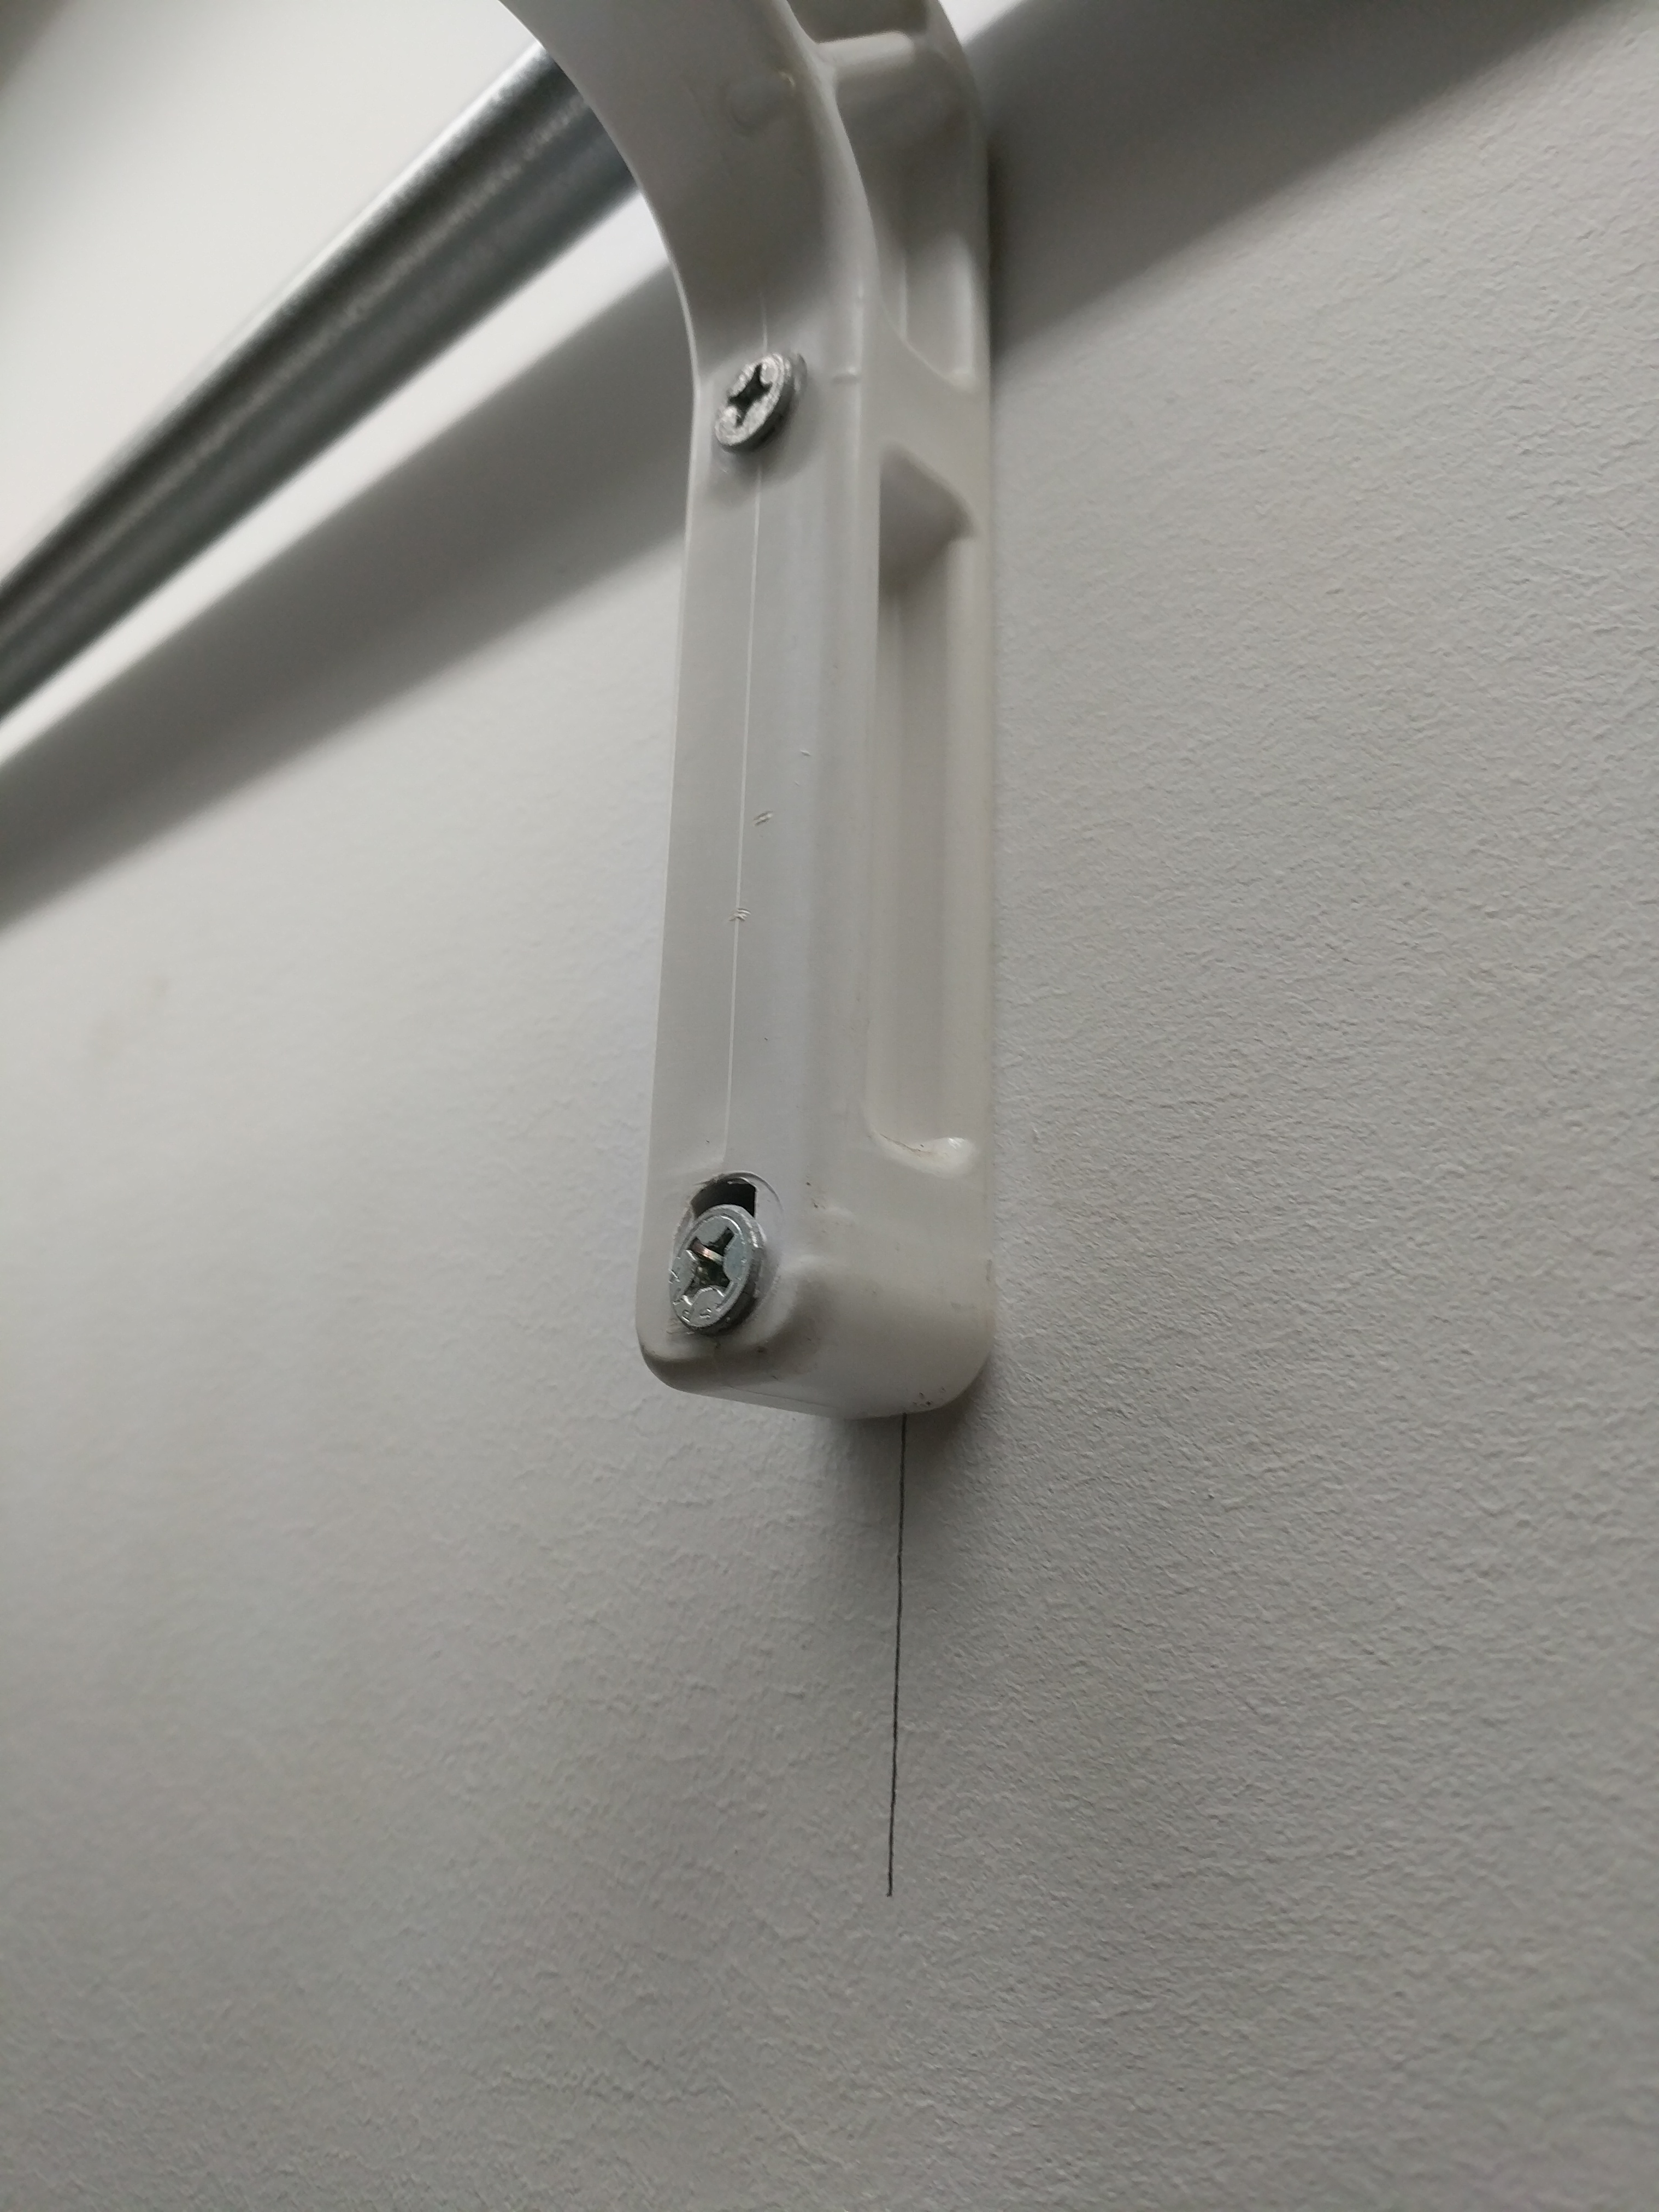cross_recessed_screw: (662, 1193, 769, 1322), (699, 347, 814, 449)
